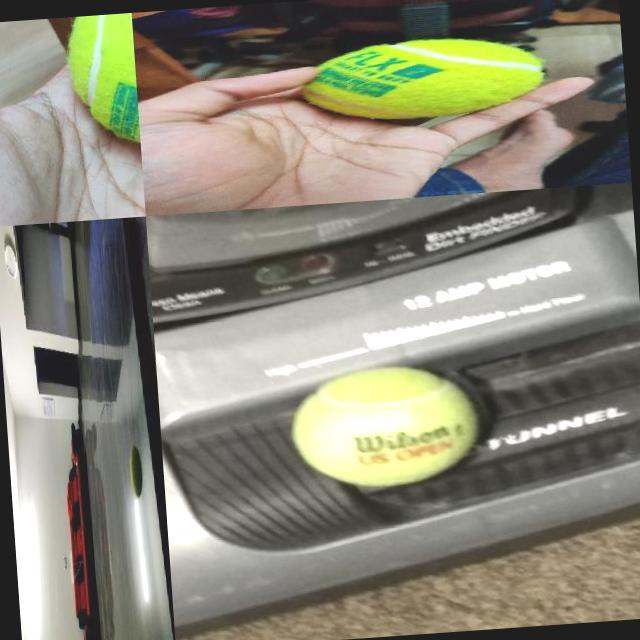Tennis Ball: (286, 358, 482, 494), (298, 31, 544, 126), (66, 12, 140, 152), (128, 443, 143, 498)
